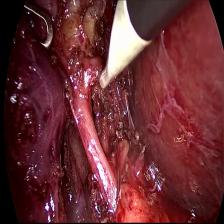Grasper: (13, 1, 60, 52)
Hook: (97, 5, 145, 94)
